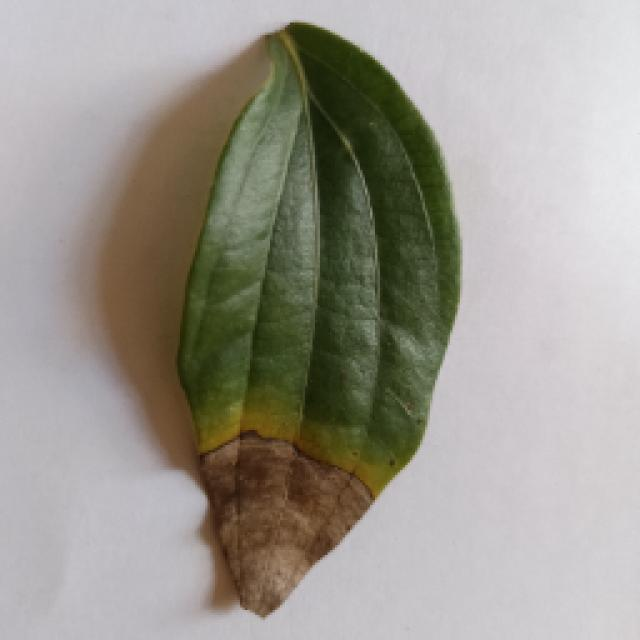footrot: (172, 28, 462, 618)
